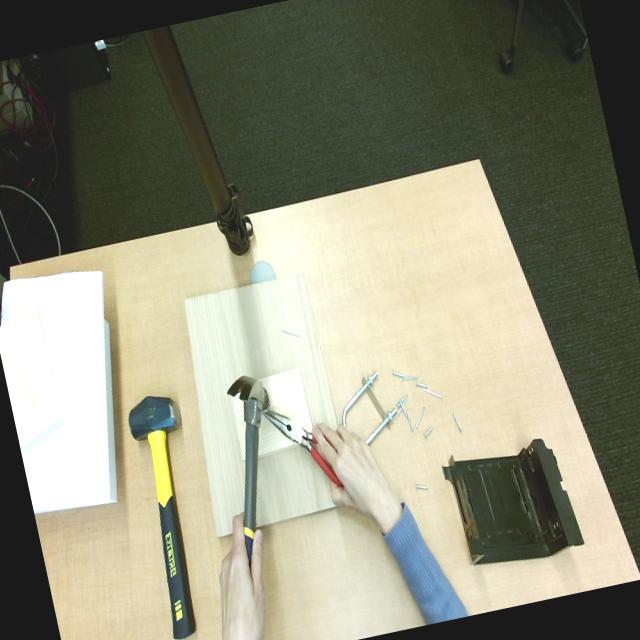hammer: (128, 395, 195, 639), (227, 375, 269, 564)
pliers: (264, 408, 342, 487)
